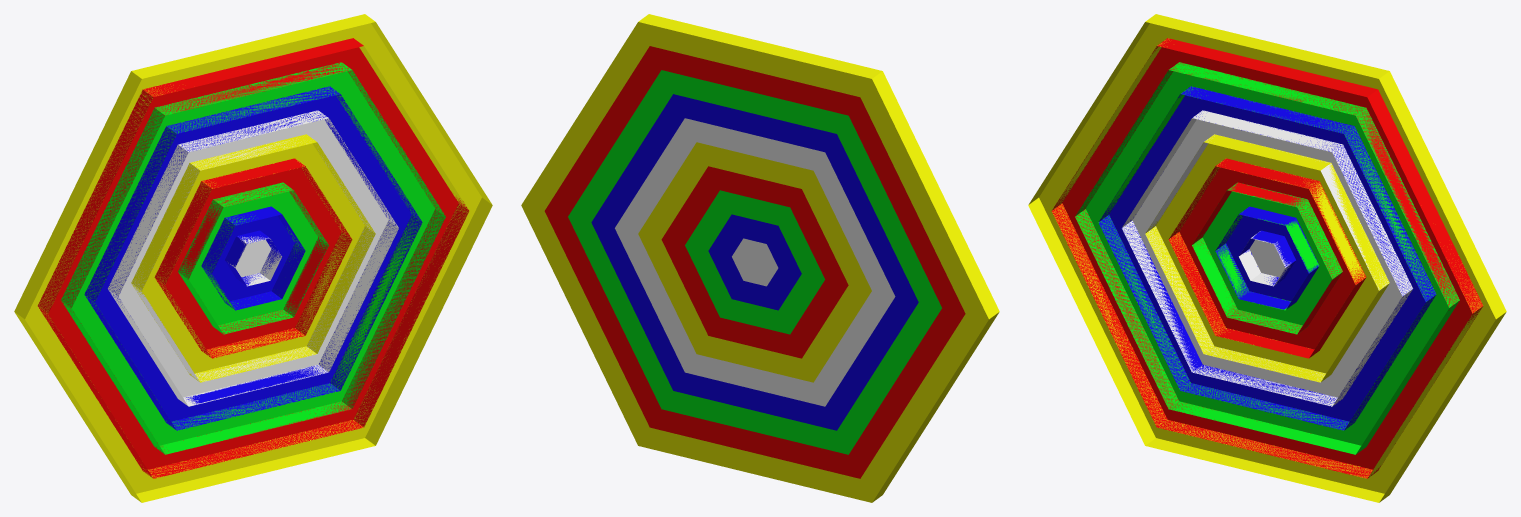
The model's file is HEXAGON NEW.fbx.
3 renders of one model, left to right at view 1: azimuth 30°, elevation 25°; view 2: azimuth 150°, elevation 25°; view 3: azimuth 330°, elevation 25°, orthographic.
Visible parts, largest first — view 1: Pipe___9, Pipe___8, Pipe___7, Pipe___6, Pipe___5, Pipe___4, Pipe___3, Pipe___2, Pipe___1, Pipe___0; view 2: Pipe___9, Pipe___8, Pipe___7, Pipe___6, Pipe___5, Pipe___4, Pipe___3, Pipe___2, Pipe___1, Pipe___0; view 3: Pipe___9, Pipe___8, Pipe___7, Pipe___6, Pipe___5, Pipe___4, Pipe___3, Pipe___2, Pipe___1, Pipe___0.
Part boxes in pixels (x1=…): Pipe___9: x1=14, y1=14, x2=492, y2=502; Pipe___8: x1=38, y1=38, x2=468, y2=478; Pipe___7: x1=61, y1=62, x2=445, y2=454; Pipe___6: x1=84, y1=86, x2=422, y2=430; Pipe___5: x1=108, y1=110, x2=398, y2=406; Pipe___4: x1=131, y1=134, x2=375, y2=382; Pipe___3: x1=154, y1=158, x2=352, y2=358; Pipe___2: x1=178, y1=182, x2=328, y2=334; Pipe___1: x1=201, y1=206, x2=305, y2=310; Pipe___0: x1=230, y1=236, x2=281, y2=286; Pipe___9: x1=521, y1=14, x2=999, y2=502; Pipe___8: x1=544, y1=46, x2=965, y2=478; Pipe___7: x1=568, y1=70, x2=941, y2=454; Pipe___6: x1=591, y1=94, x2=918, y2=430; Pipe___5: x1=615, y1=118, x2=895, y2=406; Pipe___4: x1=638, y1=142, x2=871, y2=382; Pipe___3: x1=661, y1=166, x2=848, y2=358; Pipe___2: x1=685, y1=190, x2=824, y2=334; Pipe___1: x1=708, y1=214, x2=801, y2=310; Pipe___0: x1=732, y1=238, x2=778, y2=286; Pipe___9: x1=1028, y1=14, x2=1506, y2=502; Pipe___8: x1=1051, y1=38, x2=1482, y2=478; Pipe___7: x1=1075, y1=62, x2=1459, y2=454; Pipe___6: x1=1099, y1=86, x2=1436, y2=430; Pipe___5: x1=1122, y1=110, x2=1412, y2=406; Pipe___4: x1=1145, y1=134, x2=1389, y2=382; Pipe___3: x1=1168, y1=158, x2=1366, y2=358; Pipe___2: x1=1192, y1=182, x2=1342, y2=334; Pipe___1: x1=1215, y1=206, x2=1319, y2=309; Pipe___0: x1=1239, y1=231, x2=1290, y2=286.
Bounding box in the file's own units: 500 × 433 × 20.
